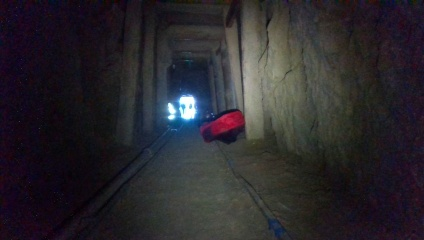backpack: (197, 109, 246, 143)
manikin: (163, 93, 180, 132)
